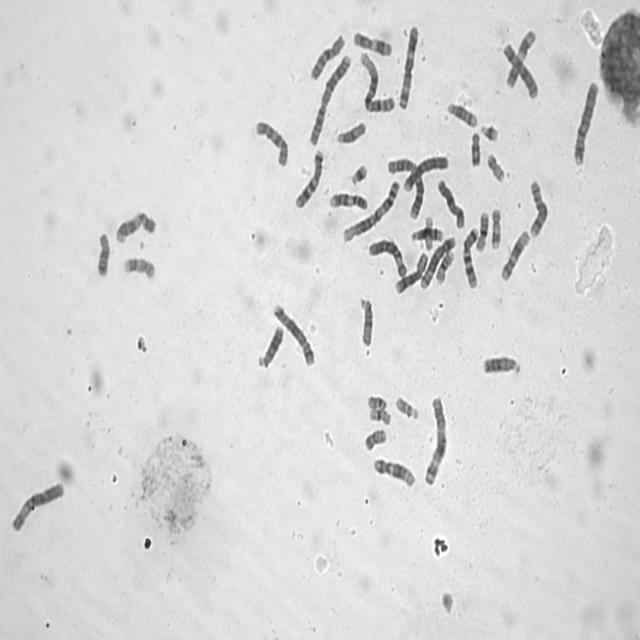A1: (341, 178, 403, 245), (357, 49, 398, 117)
A2: (307, 51, 352, 150), (384, 156, 426, 221)
A3: (424, 393, 450, 488), (398, 22, 422, 115)
B4: (570, 78, 602, 172), (402, 154, 451, 194)
B5: (272, 303, 318, 367), (419, 235, 460, 292)
C10: (252, 116, 292, 172), (308, 32, 347, 84)
C11: (504, 26, 538, 91), (352, 30, 395, 57)
C12: (500, 230, 531, 283), (371, 458, 416, 490)
C6: (8, 476, 68, 539), (367, 239, 407, 279)
C7: (293, 148, 326, 211), (460, 225, 480, 291)
C8: (394, 251, 429, 296), (528, 178, 549, 242)
C9: (114, 208, 159, 248), (329, 191, 369, 213)
D13: (256, 325, 286, 371), (479, 354, 524, 380)
D14: (445, 100, 479, 130), (409, 227, 444, 244)
D15: (356, 294, 379, 348), (336, 120, 366, 146)
E16: (474, 210, 491, 256), (435, 250, 456, 287)
E17: (122, 255, 158, 280), (489, 208, 504, 252)
E18: (93, 228, 113, 282), (470, 130, 481, 170)
F19: (368, 409, 393, 429), (424, 214, 435, 252)
F20: (486, 151, 506, 186), (362, 428, 388, 452)
G21: (349, 162, 369, 188), (479, 122, 500, 146)
G22: (394, 396, 421, 421), (366, 389, 387, 412)
X: (502, 42, 540, 100), (436, 177, 467, 230)
